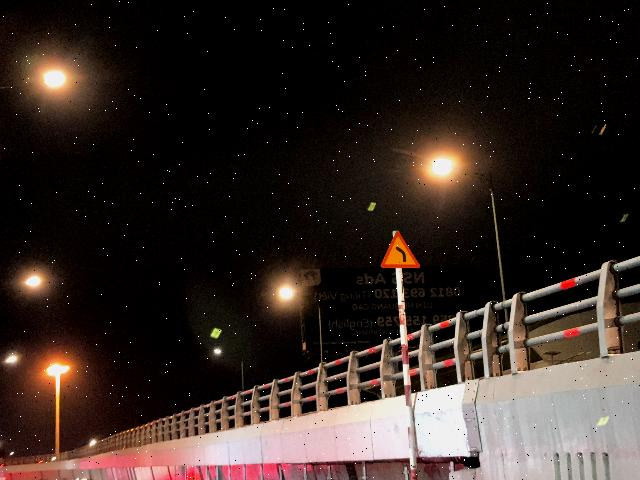cho-ngoat-nguy-hiem-ben-phai: (380, 230, 420, 268)
